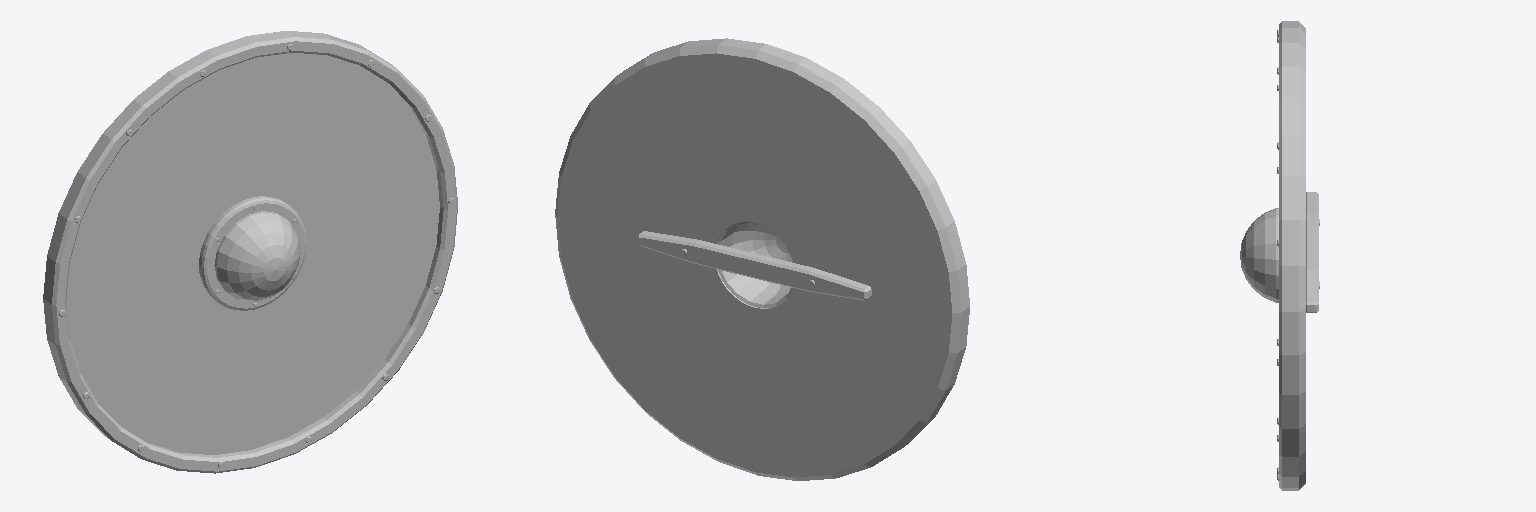
The model's file is Shield.obj.
3 renders of one model, left to right at view 1: azimuth 30°, elevation 25°; view 2: azimuth 150°, elevation 25°; view 3: azimuth 270°, elevation 25°, orthographic.
Parts seen in each view (by area): view 1: Shield; view 2: Shield; view 3: Shield.
Part boxes in pixels (bbox=[...]): Shield: bbox=[43, 31, 457, 473]; Shield: bbox=[555, 38, 969, 480]; Shield: bbox=[1240, 21, 1319, 490].
Size of the model in its own units: 0.8045 by 0.8045 by 0.1376.